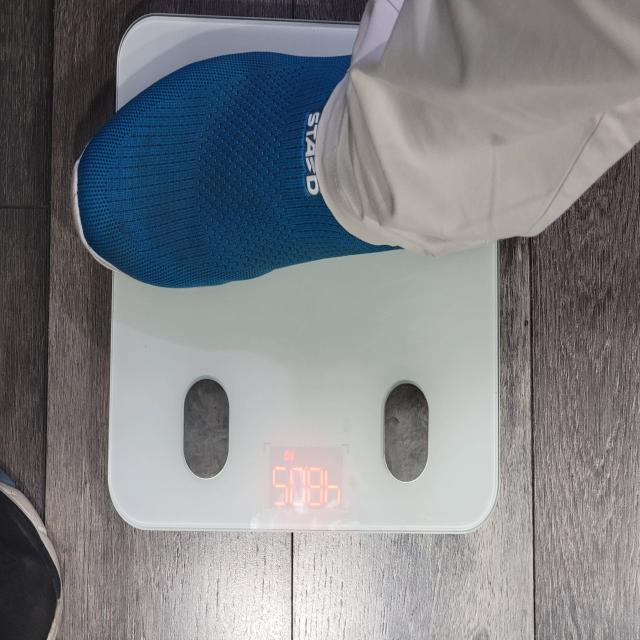ws: (262, 443, 348, 524)
